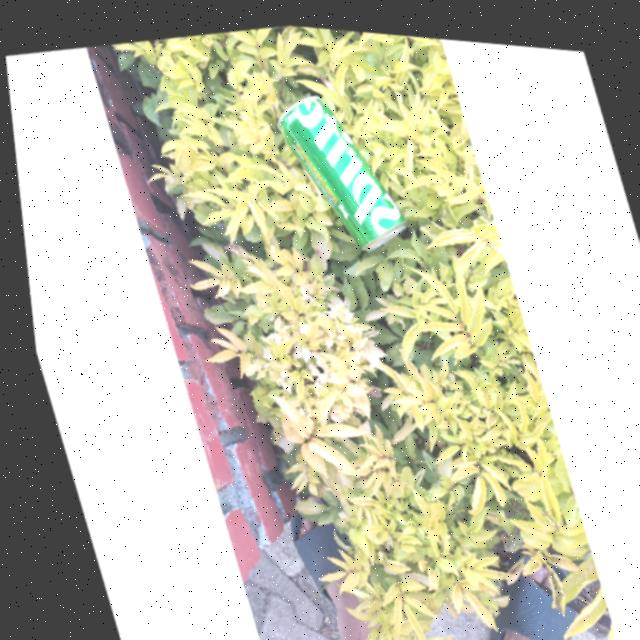Sprite: (272, 79, 408, 253)
